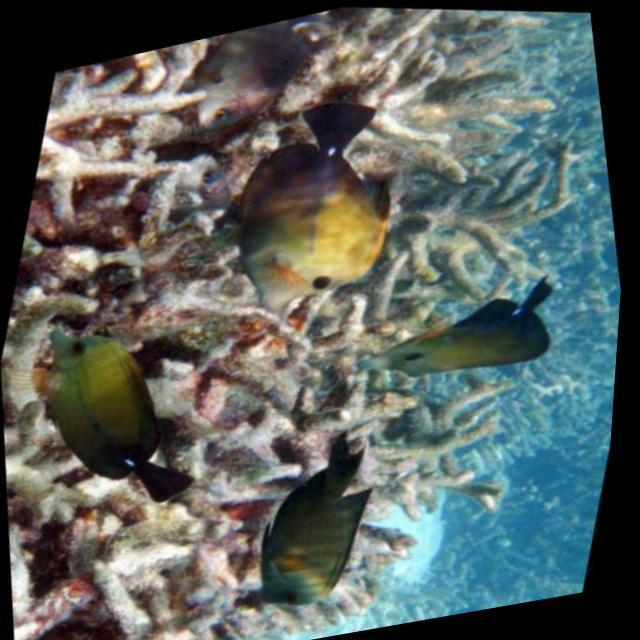Dead Coral: (334, 0, 639, 327), (0, 18, 310, 297), (0, 410, 319, 640), (136, 253, 403, 482), (355, 359, 552, 537)
